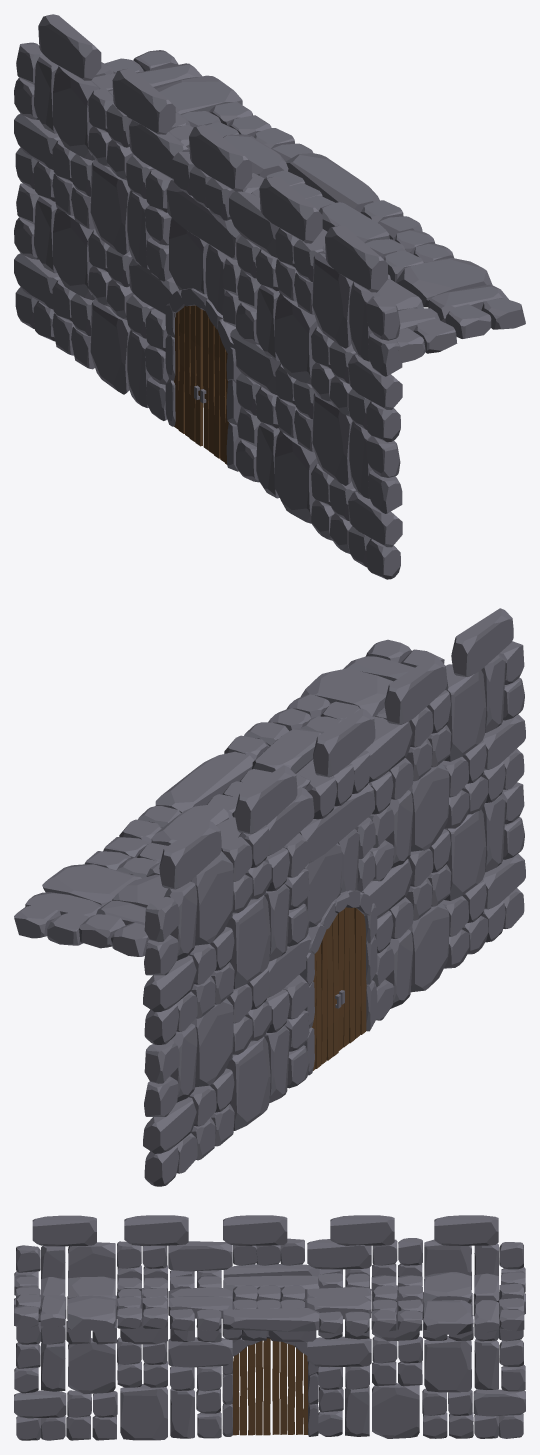
The model's file is TembokKerajaan.fbx.
The picture shows the model from 3 angles, top to bottom: view 1: azimuth 30°, elevation 25°; view 2: azimuth 150°, elevation 25°; view 3: azimuth 270°, elevation 25°; orthographic projection. The views are drawn at different scales.
Parts seen in each view (by area): view 1: Cube.129; view 2: Cube.129; view 3: Cube.129.
Part boxes in pixels (x1=…): Cube.129: x1=14, y1=14, x2=525, y2=579; Cube.129: x1=14, y1=608, x2=525, y2=1186; Cube.129: x1=14, y1=1215, x2=525, y2=1440.
Size of the model in its own units: 695 by 1322 by 2790.
